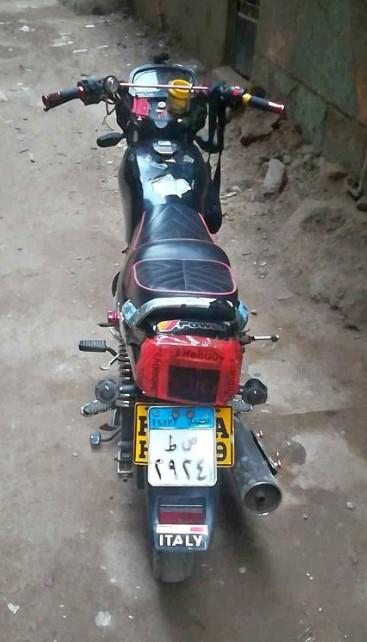License Plate: (146, 402, 223, 486)
